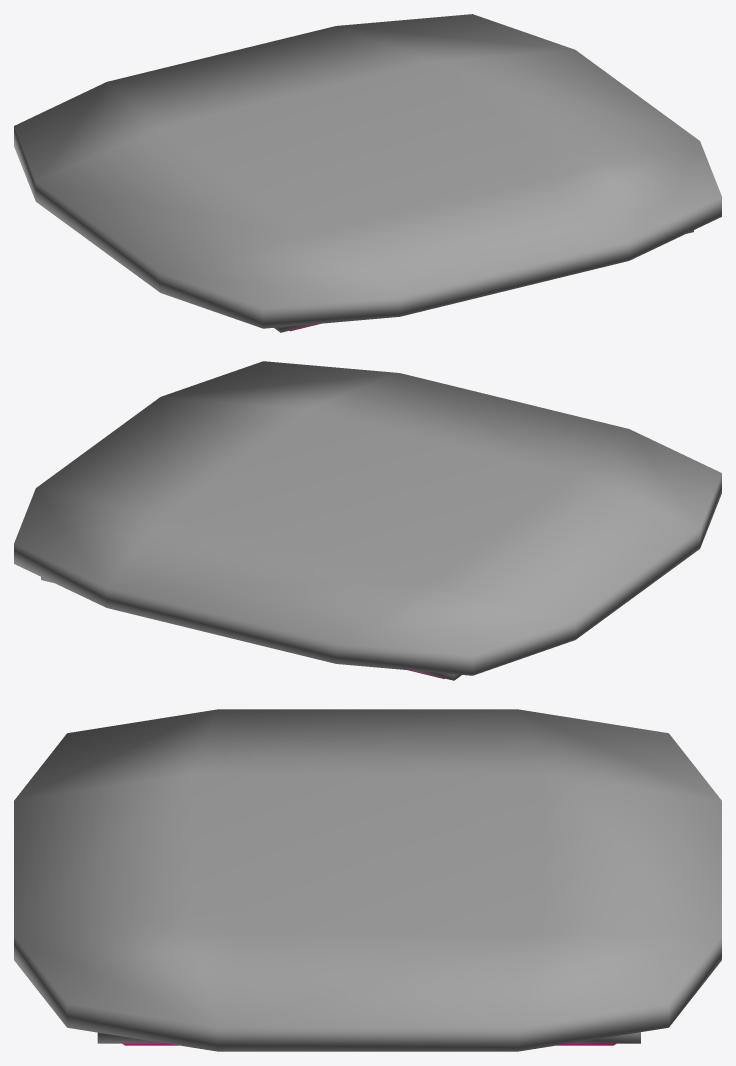
File: powerup_holder.glb
3 renders of one model, top to bottom at view 1: azimuth 30°, elevation 25°; view 2: azimuth 150°, elevation 25°; view 3: azimuth 270°, elevation 25°, orthographic. The views are drawn at different scales.
Parts seen in each view (by area): view 1: ship; view 2: ship; view 3: ship.
Boxes of the visible parts, x1=… form: ship: x1=14, y1=14, x2=721, y2=332; ship: x1=14, y1=361, x2=721, y2=680; ship: x1=14, y1=709, x2=721, y2=1051.
Size of the model in its own units: 0.2795 by 0.0321 by 0.2631.
Materials: 1 (1 with a texture image).
